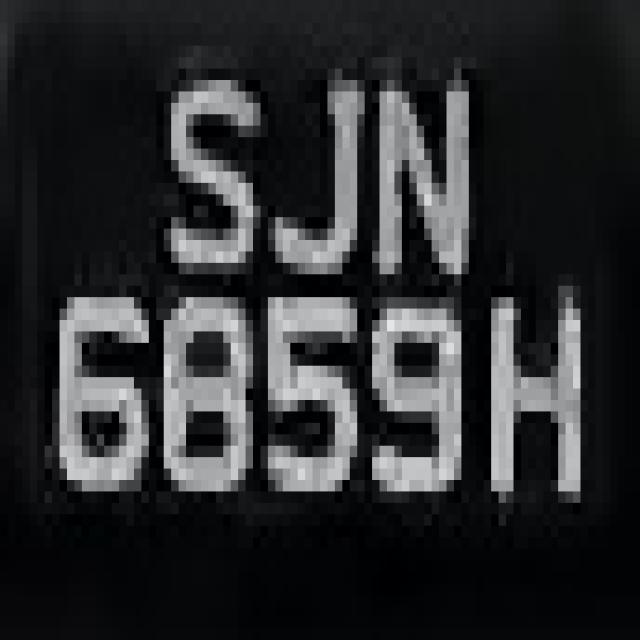5: (261, 229, 357, 514)
6: (52, 228, 149, 526)
8: (149, 240, 268, 503)
9: (357, 263, 469, 503)
H: (484, 252, 603, 548)
J: (268, 23, 372, 297)
N: (364, 23, 484, 320)
S: (149, 11, 275, 263)
